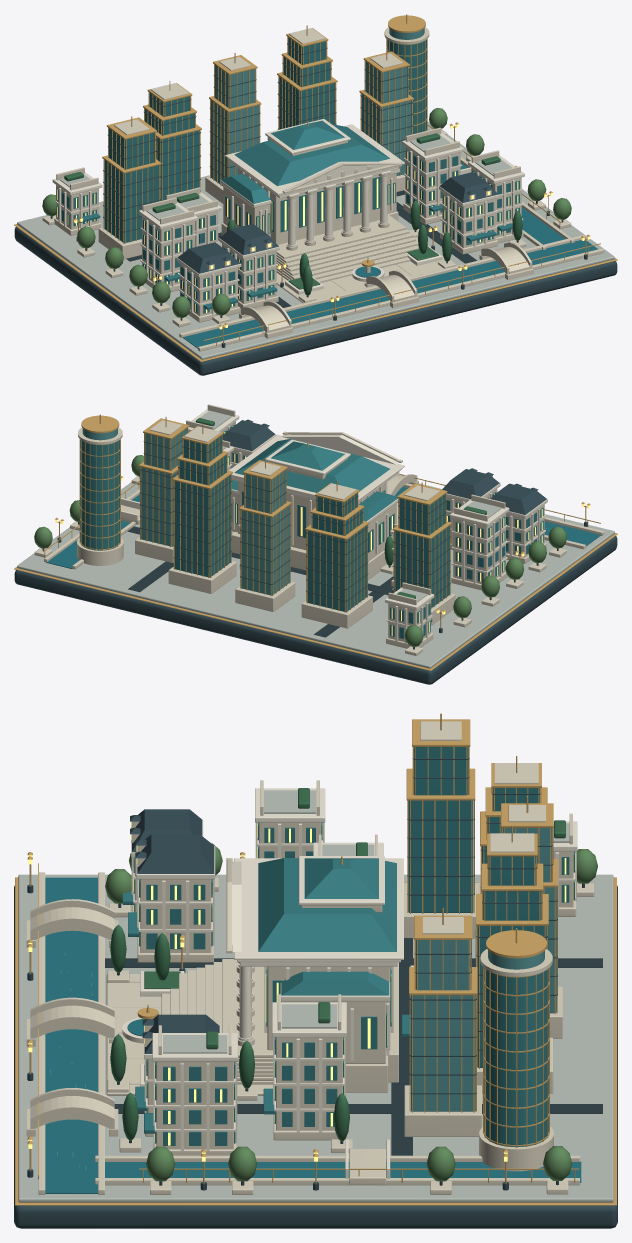
File: policy_city.glb
3 views of the same model, one above another, from view 1: azimuth 30°, elevation 25°; view 2: azimuth 150°, elevation 25°; view 3: azimuth 270°, elevation 25° (orthographic). The views are drawn at different scales.
Visible parts, largest first — view 1: Skyline | Teal glass, Skyline | Brass, Neighborhood | Warm limestone, Foundation | Pale plaza, Civic hall | Warm limestone, Foundation | Midnight slate, Civic hall | Teal glass, Neighborhood | Ivory cornices, Canal and bridges | Warm limestone, Skyline | Silver teal glass, Civic hall | Ivory cornices, Neighborhood | Teal glass (+17 smaller); view 2: Skyline | Teal glass, Foundation | Pale plaza, Skyline | Brass, Foundation | Midnight slate, Skyline | Silver teal glass, Skyline | Warm limestone, Neighborhood | Warm limestone, Civic hall | Teal glass, Neighborhood | Ivory cornices, Civic hall | Ivory cornices, Neighborhood | Midnight slate, Civic hall | Warm limestone (+10 smaller); view 3: Foundation | Pale plaza, Skyline | Teal glass, Skyline | Brass, Canal and bridges | Warm limestone, Canal and bridges | Canal, Neighborhood | Warm limestone, Civic hall | Teal glass, Foundation | Midnight slate, Civic hall | Warm limestone, Skyline | Silver teal glass, Neighborhood | Ivory cornices, Skyline | Warm limestone (+16 smaller).
Boxes of the visible parts, x1,y1,x2,y2 form: Skyline | Teal glass: (104,37,426,243); Skyline | Brass: (102,14,427,243); Neighborhood | Warm limestone: (54,127,523,322); Foundation | Pale plaza: (17,121,614,359); Civic hall | Warm limestone: (221,137,418,282); Foundation | Midnight slate: (14,227,617,375); Civic hall | Teal glass: (220,120,395,233); Neighborhood | Ivory cornices: (52,132,524,314); Canal and bridges | Warm limestone: (179,157,604,351); Skyline | Silver teal glass: (211,28,424,186); Civic hall | Ivory cornices: (220,119,404,246); Neighborhood | Teal glass: (56,150,522,313); Skyline | Teal glass: (80,436,449,611); Foundation | Pale plaza: (17,482,614,668); Skyline | Brass: (79,414,451,612); Foundation | Midnight slate: (14,536,617,684); Skyline | Silver teal glass: (82,428,289,595); Skyline | Warm limestone: (77,420,455,628); Neighborhood | Warm limestone: (186,404,546,648); Civic hall | Teal glass: (231,439,397,552); Neighborhood | Ivory cornices: (188,409,547,643); Civic hall | Ivory cornices: (229,434,404,553); Neighborhood | Midnight slate: (222,419,546,514); Civic hall | Warm limestone: (231,431,402,579); Foundation | Pale plaza: (18,874,613,1202); Skyline | Teal glass: (408,747,548,1147); Skyline | Brass: (406,713,558,1147); Canal and bridges | Warm limestone: (26,872,579,1194); Canal and bridges | Canal: (45,877,581,1193); Neighborhood | Warm limestone: (131,780,576,1155); Civic hall | Teal glass: (258,858,396,1049); Foundation | Midnight slate: (14,885,617,1228); Civic hall | Warm limestone: (161,858,398,1092); Skyline | Silver teal glass: (411,828,556,1111); Neighborhood | Ivory cornices: (131,788,577,1151); Skyline | Warm limestone: (404,721,562,1171).
Size of the model in its own units: 18 by 7.23 by 14.
